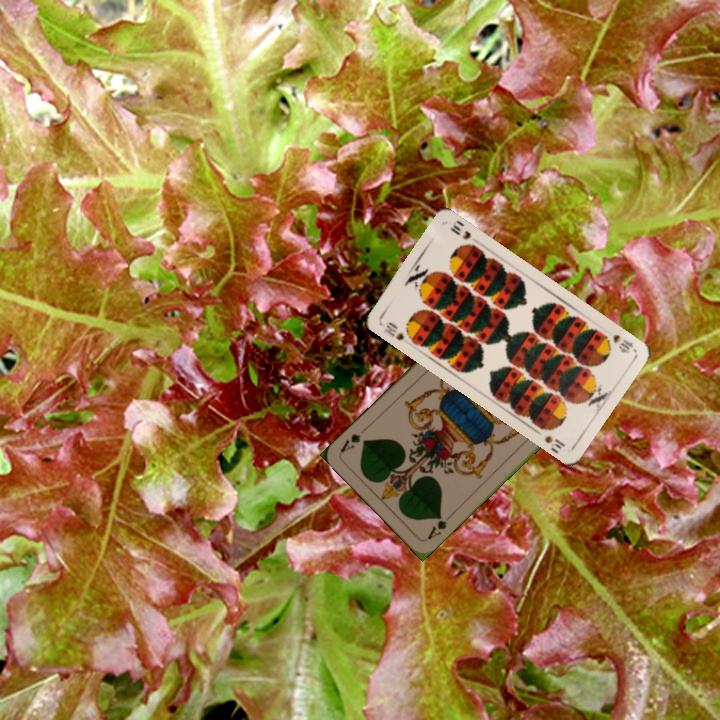GA: (423, 510, 455, 543)
S10: (608, 330, 637, 356), (379, 318, 407, 343)
